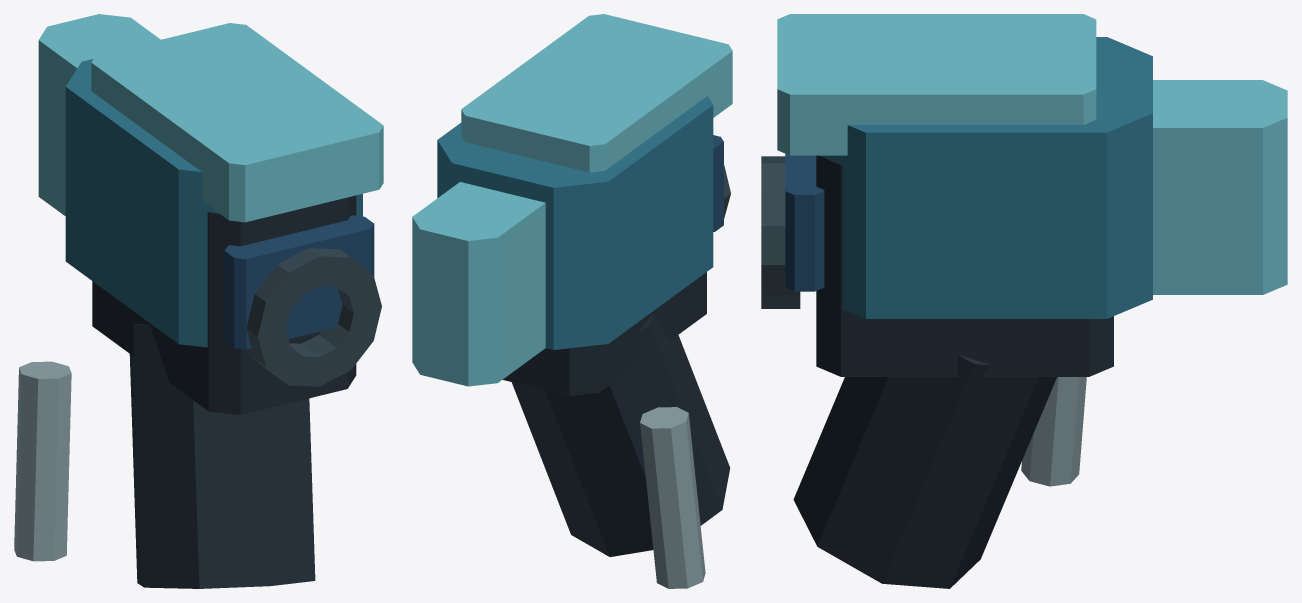
The model's file is enemy_marksman_upper_arm_l.obj.
3 renders of one model, left to right at view 1: azimuth 30°, elevation 25°; view 2: azimuth 150°, elevation 25°; view 3: azimuth 270°, elevation 25°, orthographic. The views are drawn at different scales.
Bounding box in the file's own units: 0.4509 × 0.8144 × 0.7425.
